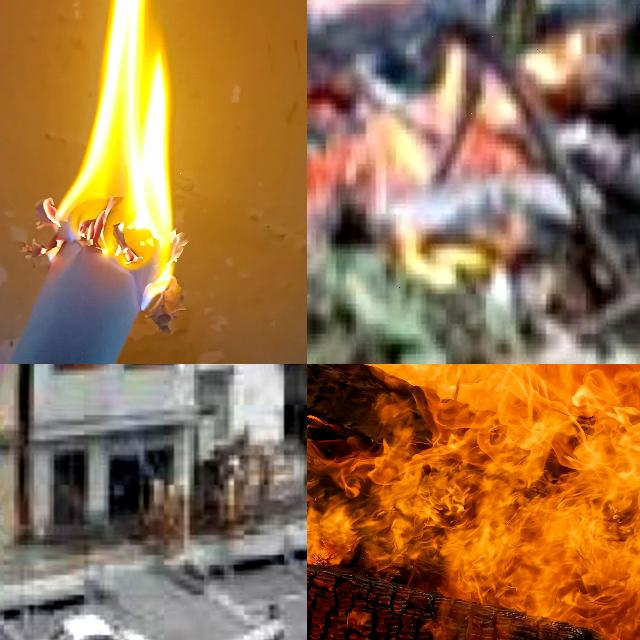fire: (307, 364, 640, 640), (307, 0, 571, 286), (25, 0, 184, 332)
